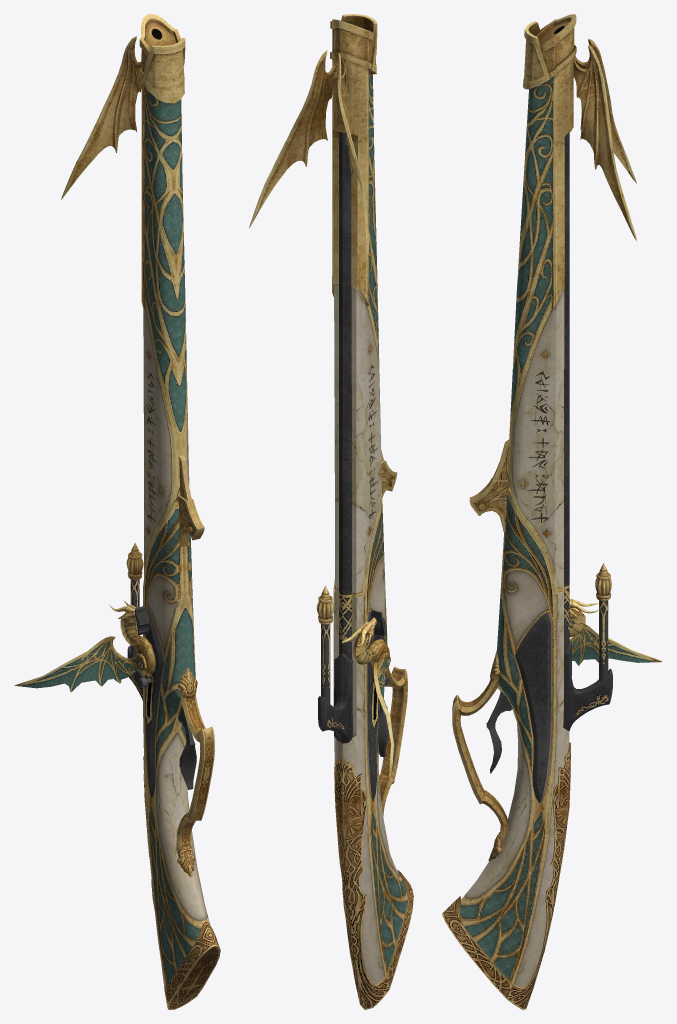
Rendered from hbg027.obj.
3 renders of one model, left to right at view 1: azimuth 30°, elevation 25°; view 2: azimuth 150°, elevation 25°; view 3: azimuth 270°, elevation 25°, orthographic. The views are drawn at different scales.
Parts seen in each view (by area): view 1: hbg027_019_LOD_1, hbg027_017_LOD_1, hbg027_018_LOD_1, hbg027_021_LOD_1, hbg027_008_LOD_1, hbg027_009_LOD_1, hbg027_012_LOD_1, hbg027_024_LOD_1, hbg027_022_LOD_1, hbg027_020_LOD_1, hbg027_023_LOD_1, hbg027_007_LOD_1 (+2 smaller); view 2: hbg027_017_LOD_1, hbg027_019_LOD_1, hbg027_020_LOD_1, hbg027_009_LOD_1, hbg027_021_LOD_1, hbg027_001_LOD_1, hbg027_000_LOD_1, hbg027_002_LOD_1, hbg027_018_LOD_1, hbg027_008_LOD_1, hbg027_012_LOD_1, hbg027_010_LOD_1 (+3 smaller); view 3: hbg027_017_LOD_1, hbg027_019_LOD_1, hbg027_021_LOD_1, hbg027_009_LOD_1, hbg027_020_LOD_1, hbg027_011_LOD_1, hbg027_008_LOD_1, hbg027_001_LOD_1, hbg027_018_LOD_1, hbg027_002_LOD_1, hbg027_022_LOD_1, hbg027_014_LOD_1 (+5 smaller).
Part boxes in pixels (x1,y1,x2,y2): hbg027_019_LOD_1: [143, 86, 189, 577]; hbg027_017_LOD_1: [143, 497, 209, 986]; hbg027_018_LOD_1: [14, 600, 155, 692]; hbg027_021_LOD_1: [61, 36, 141, 199]; hbg027_008_LOD_1: [176, 667, 214, 877]; hbg027_009_LOD_1: [143, 756, 220, 1009]; hbg027_012_LOD_1: [138, 608, 164, 798]; hbg027_024_LOD_1: [146, 49, 184, 94]; hbg027_022_LOD_1: [139, 14, 181, 78]; hbg027_020_LOD_1: [141, 49, 147, 307]; hbg027_023_LOD_1: [142, 38, 185, 103]; hbg027_007_LOD_1: [178, 706, 196, 789]; hbg027_017_LOD_1: [333, 488, 407, 984]; hbg027_019_LOD_1: [334, 70, 381, 597]; hbg027_020_LOD_1: [332, 27, 373, 305]; hbg027_009_LOD_1: [334, 756, 413, 1009]; hbg027_021_LOD_1: [249, 50, 368, 257]; hbg027_001_LOD_1: [339, 132, 351, 491]; hbg027_000_LOD_1: [339, 489, 354, 738]; hbg027_002_LOD_1: [318, 653, 352, 743]; hbg027_018_LOD_1: [342, 617, 394, 776]; hbg027_008_LOD_1: [379, 666, 407, 815]; hbg027_012_LOD_1: [367, 612, 389, 802]; hbg027_010_LOD_1: [321, 624, 330, 704]; hbg027_017_LOD_1: [460, 483, 569, 987]; hbg027_019_LOD_1: [507, 77, 564, 593]; hbg027_021_LOD_1: [573, 39, 636, 240]; hbg027_009_LOD_1: [442, 742, 570, 1009]; hbg027_020_LOD_1: [542, 27, 574, 308]; hbg027_011_LOD_1: [515, 613, 550, 803]; hbg027_008_LOD_1: [452, 650, 508, 861]; hbg027_001_LOD_1: [564, 132, 569, 484]; hbg027_018_LOD_1: [569, 599, 662, 665]; hbg027_002_LOD_1: [563, 642, 612, 731]; hbg027_022_LOD_1: [534, 14, 576, 78]; hbg027_014_LOD_1: [469, 477, 508, 531].
Size of the model in its own units: 42.35 by 263 by 53.05.
